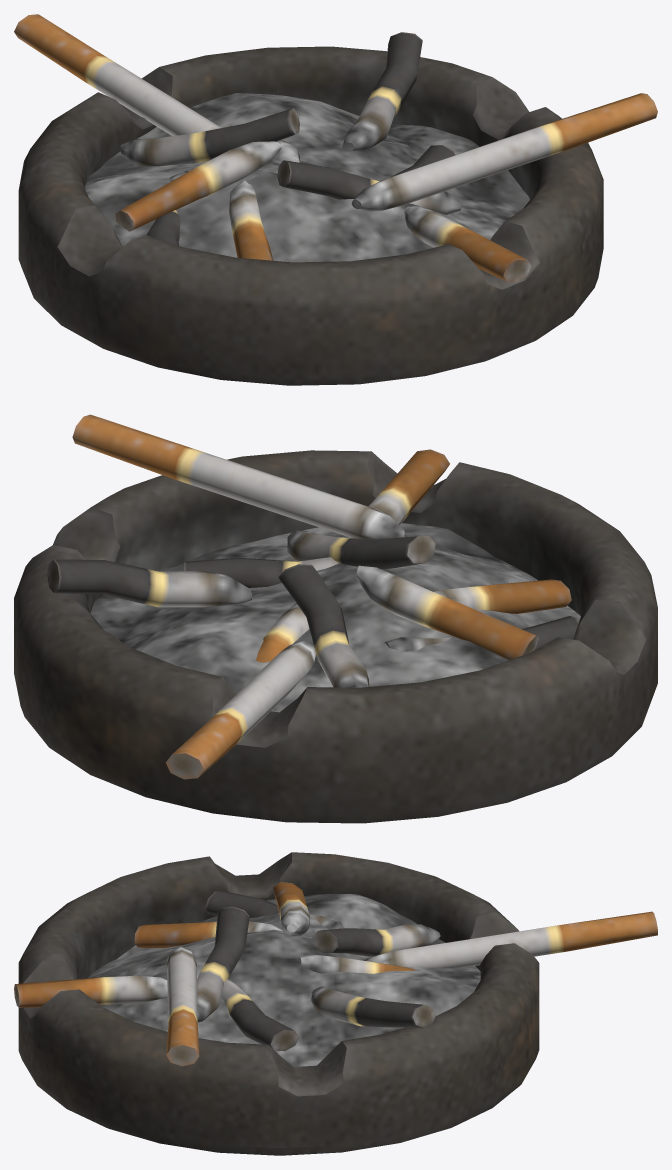
File: SM_Ashtray_01.fbx
3 views of the same model, one above another, from view 1: azimuth 30°, elevation 25°; view 2: azimuth 150°, elevation 25°; view 3: azimuth 270°, elevation 25° (orthographic). The views are drawn at different scales.
Visible parts, largest first — view 1: SM_Ashtray_01_LOD0; view 2: SM_Ashtray_01_LOD0; view 3: SM_Ashtray_01_LOD0.
Part boxes in pixels (x1=…): SM_Ashtray_01_LOD0: x1=14, y1=14, x2=657, y2=385; SM_Ashtray_01_LOD0: x1=14, y1=414, x2=657, y2=823; SM_Ashtray_01_LOD0: x1=14, y1=852, x2=657, y2=1155.
Size of the model in its own units: 16.29 by 18.86 by 4.14.
Materials: 1 (1 with a texture image).
